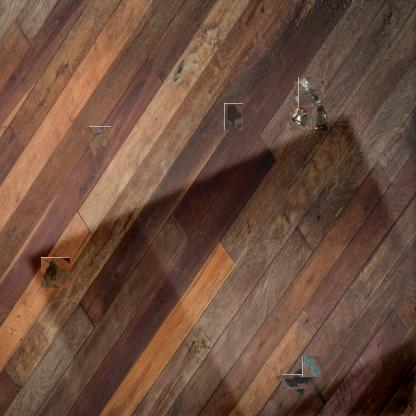dirty: (40, 257, 71, 288), (296, 79, 323, 106), (290, 106, 312, 132), (287, 370, 310, 393), (314, 103, 330, 133), (89, 126, 111, 147)
liquid: (224, 103, 243, 130), (302, 355, 321, 377)
